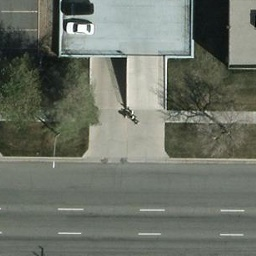car: (65, 17, 97, 31), (60, 1, 95, 12)
